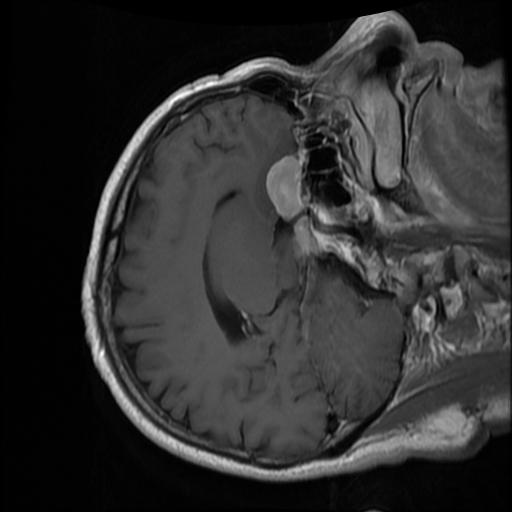meningioma: (264, 155, 304, 221)
